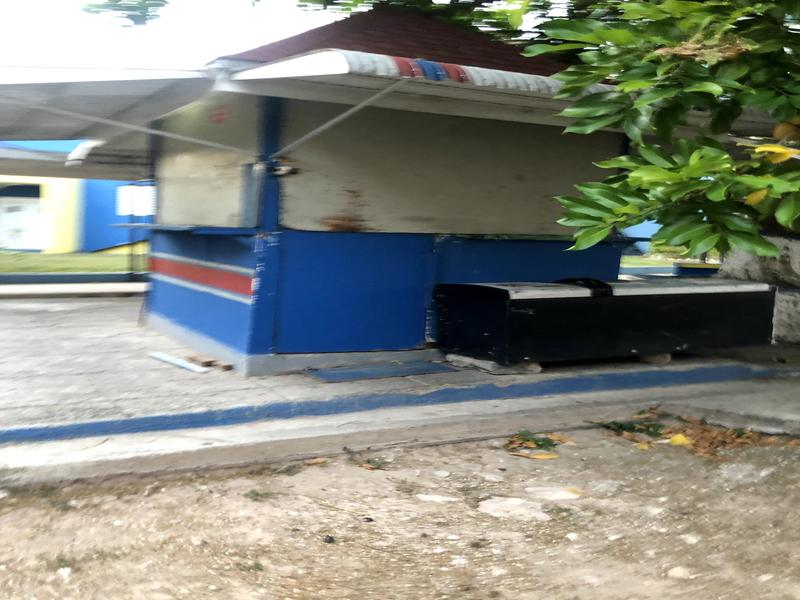18.0050609_-76.7496662_auntyjackie: (70, 3, 631, 365)
